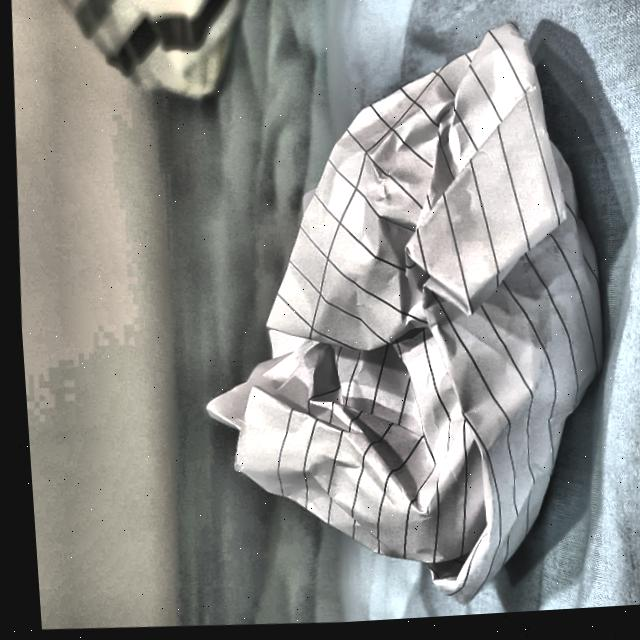paper: (180, 4, 639, 632)
